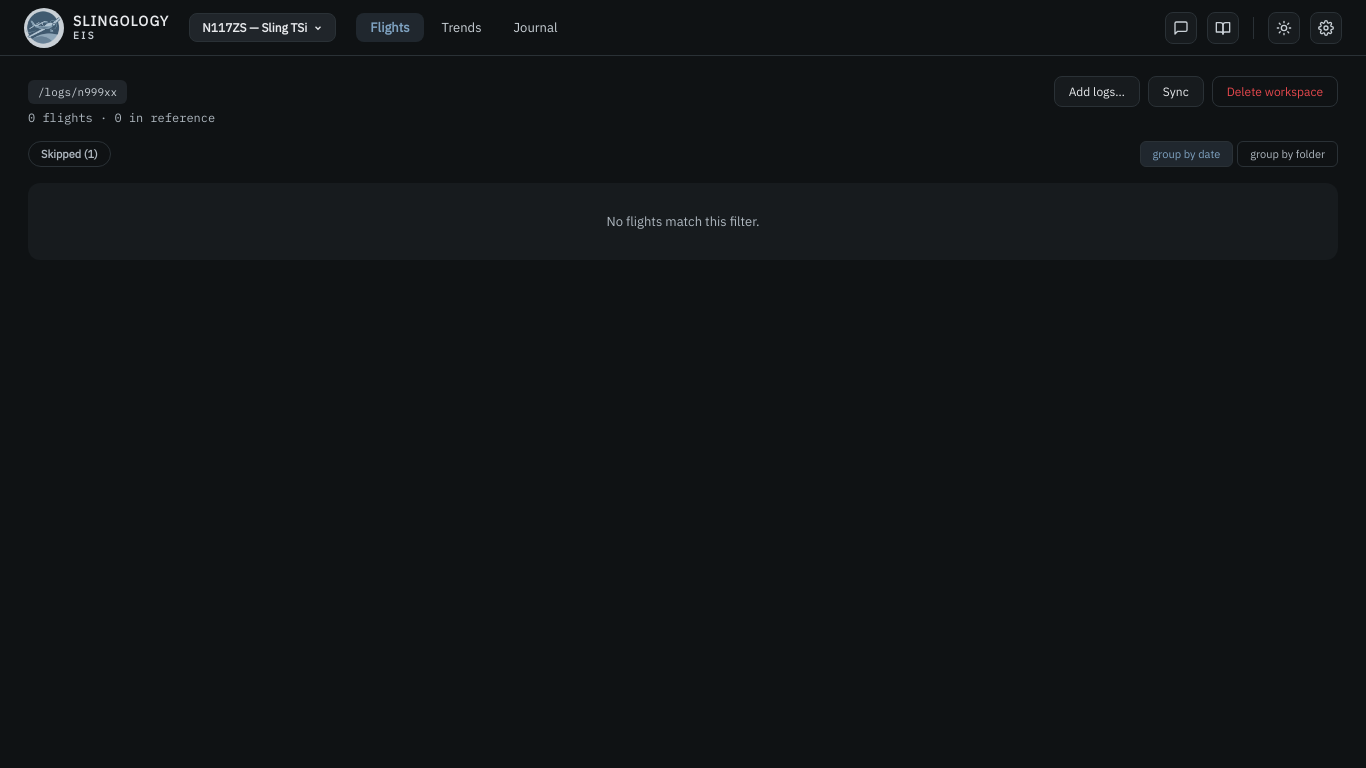
it: Log preview › is where a skipped log's row in Flights leads
Click the button "Skipped (1)". click: (69, 154)
box: x1=28 y1=141 x2=111 y2=167
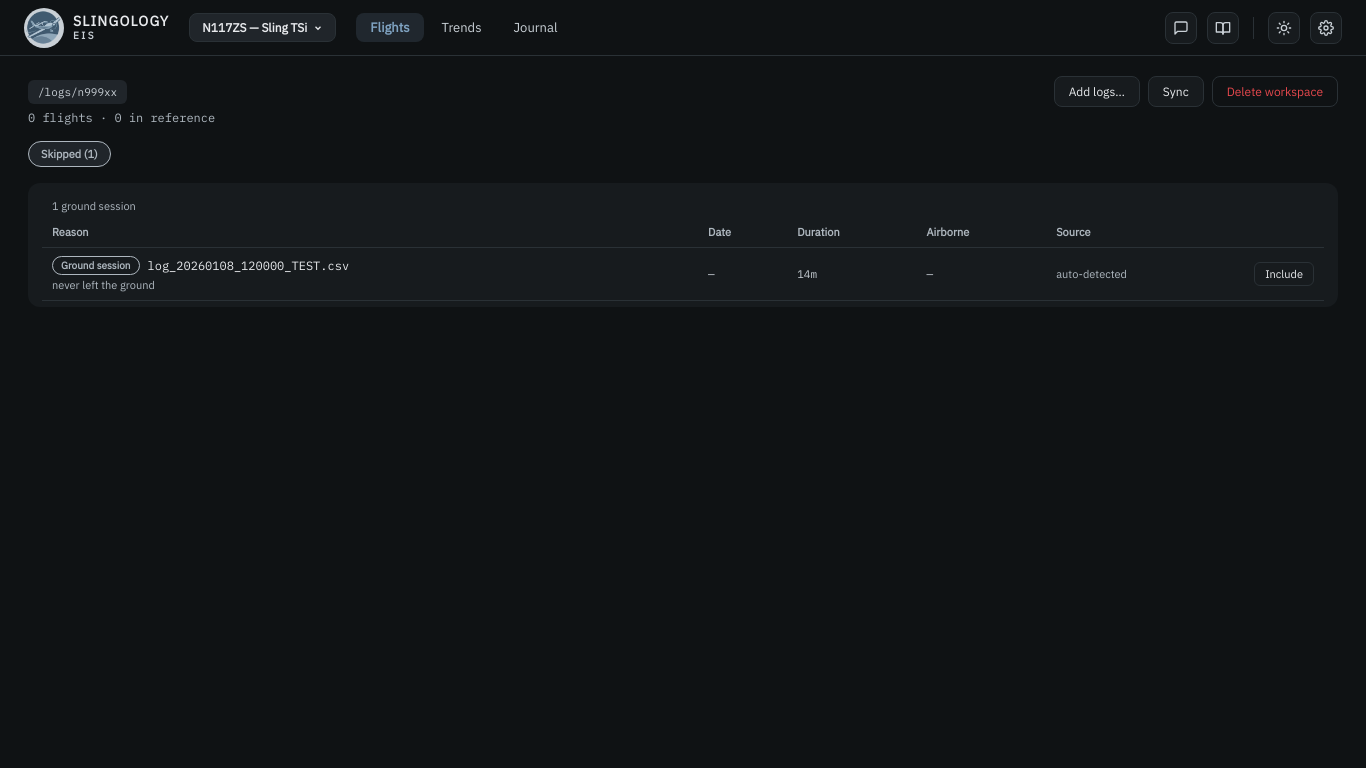
Click the text "log_20260108_120000_TEST.csv". click: (248, 266)
box: x1=148 y1=258 x2=349 y2=273
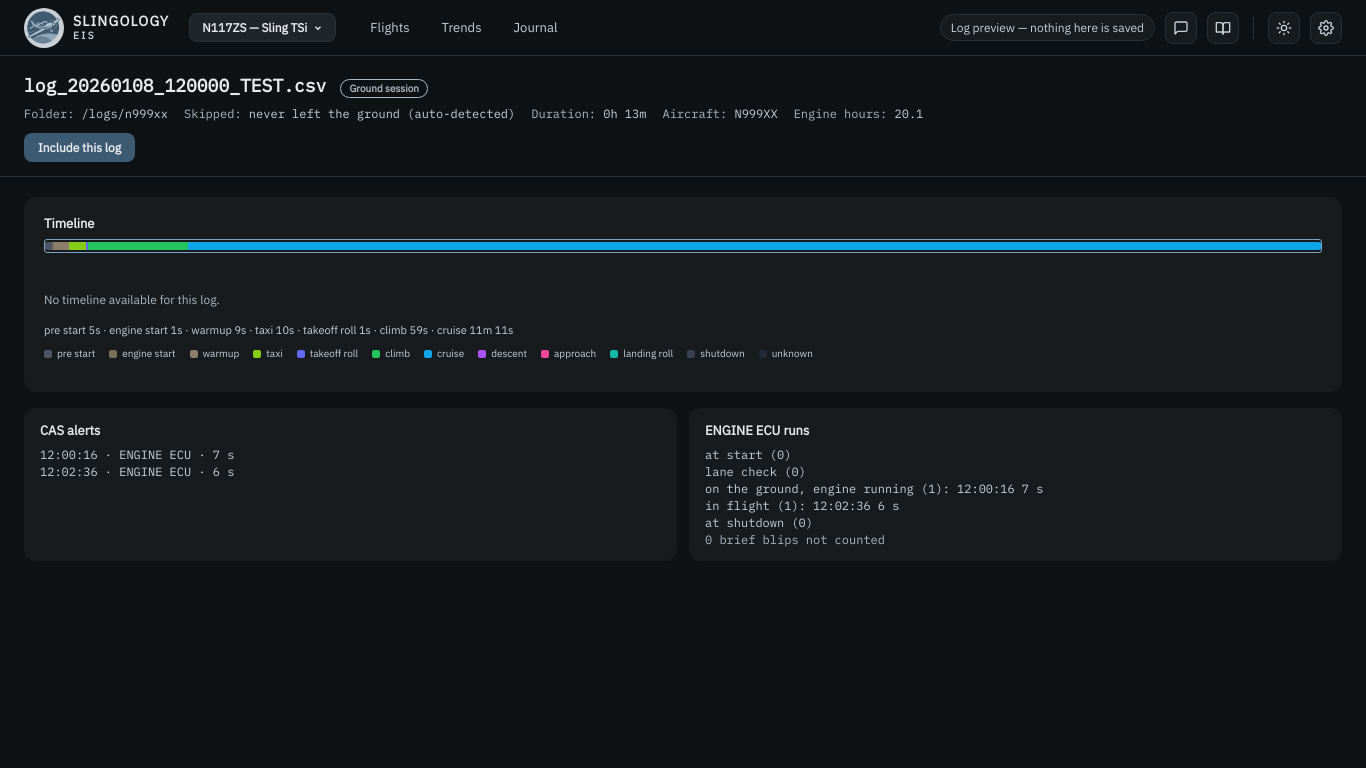
expect the element with test id "log-header" is shown: met, box x1=24 y1=106 x2=923 y2=121
